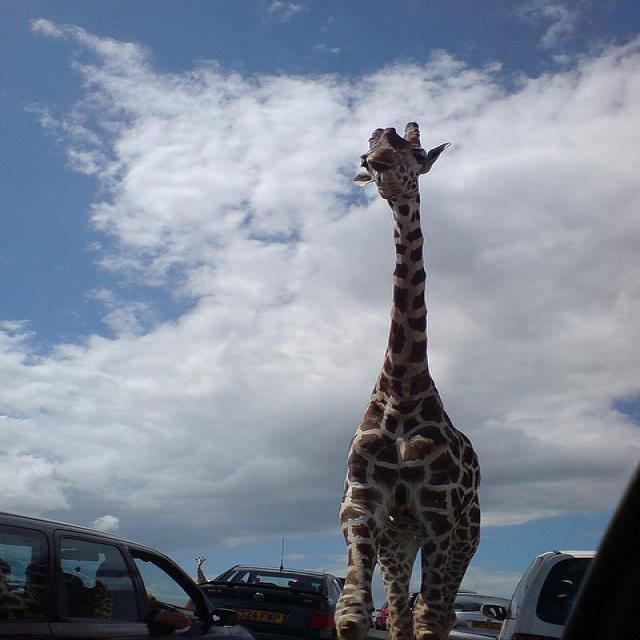Vehicle: (0, 511, 259, 640), (555, 458, 640, 639), (204, 563, 346, 640), (481, 550, 598, 638), (449, 594, 508, 630)
